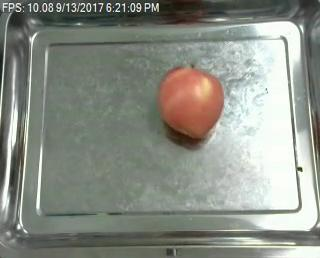apple: (157, 66, 226, 141)
